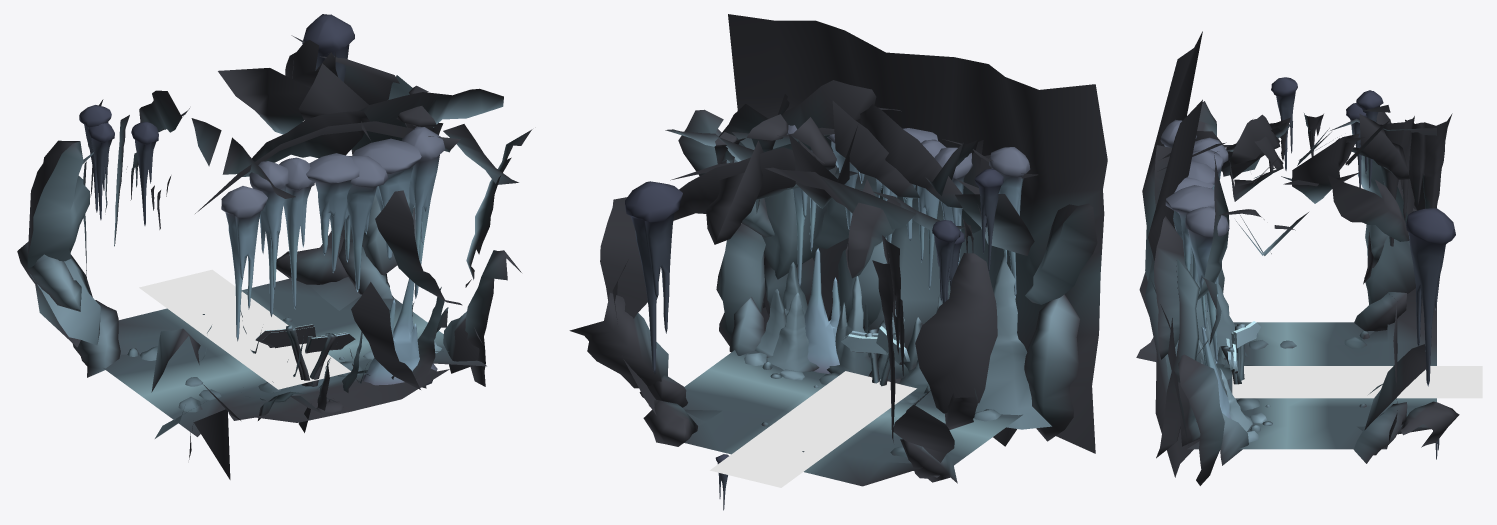
The model's file is Arctic_Tunnels_T_Junction_A.glb.
3 views of the same model, side by side, from view 1: azimuth 30°, elevation 25°; view 2: azimuth 150°, elevation 25°; view 3: azimuth 270°, elevation 25° (orthographic). The views are drawn at different scales.
Visible parts, largest first — view 1: Arctic_Tunnels_T_Junction_A, turnHighlight, Arctic_Tunnels_Icicle_Bright_A08, Arctic_Tunnels_Icicle_Bright_A05, Arctic_Tunnels_Icicle_Bright_A02 (1), Arctic_Tunnels_Icicle_Bright_A04, Arctic_Tunnels_Icicle_Bright_A07, Arctic_Tunnels_Icicle_Bright_A03, Arctic_Tunnels_Icicle_Bright_A08 (1), Arctic_Tunnels_Icicle_Bright_A06, Arctic_Tunnels_Icicle_Shadow_A02, Arctic_Tunnels_Icicle_Shadow_A06 (+2 smaller); view 2: Arctic_Tunnels_T_Junction_A, turnHighlight, Arctic_Tunnels_Icicle_Shadow_A02, Arctic_Tunnels_Icicle_Bright_A08 (1), Arctic_Tunnels_Icicle_Bright_A08, Arctic_Tunnels_Icicle_Shadow_A06, Arctic_Tunnels_Icicle_Shadow_A03, Arctic_Tunnels_Icicle_Bright_A06, Arctic_Tunnels_Icicle_Bright_A02 (1), Arctic_Tunnels_Icicle_Bright_A07, LeftArrow, RightArrow; view 3: Arctic_Tunnels_T_Junction_A, turnHighlight, Arctic_Tunnels_Icicle_Shadow_A02, Arctic_Tunnels_Icicle_Bright_A02 (1), Arctic_Tunnels_Icicle_Bright_A03, Arctic_Tunnels_Icicle_Shadow_A06, Arctic_Tunnels_Icicle_Shadow_A03, RightArrow, Arctic_Tunnels_Icicle_Bright_A08 (1), Arctic_Tunnels_Icicle_Shadow_A02 (1), Arctic_Tunnels_Icicle_Bright_A05, Arctic_Tunnels_Icicle_Bright_A06 (+2 smaller).
Part boxes in pixels (x1=…): Arctic_Tunnels_T_Junction_A: x1=17, y1=35, x2=532, y2=479; turnHighlight: x1=139, y1=269, x2=350, y2=389; Arctic_Tunnels_Icicle_Bright_A08: x1=221, y1=186, x2=267, y2=341; Arctic_Tunnels_Icicle_Bright_A05: x1=306, y1=153, x2=359, y2=272; Arctic_Tunnels_Icicle_Bright_A02 (1): x1=402, y1=126, x2=445, y2=298; Arctic_Tunnels_Icicle_Bright_A04: x1=344, y1=156, x2=388, y2=291; Arctic_Tunnels_Icicle_Bright_A07: x1=249, y1=161, x2=288, y2=316; Arctic_Tunnels_Icicle_Bright_A03: x1=352, y1=138, x2=421, y2=259; Arctic_Tunnels_Icicle_Bright_A08 (1): x1=362, y1=278, x2=437, y2=387; Arctic_Tunnels_Icicle_Bright_A06: x1=279, y1=157, x2=314, y2=309; Arctic_Tunnels_Icicle_Shadow_A02: x1=302, y1=14, x2=354, y2=81; Arctic_Tunnels_Icicle_Shadow_A06: x1=131, y1=122, x2=158, y2=225; Arctic_Tunnels_T_Junction_A: x1=569, y1=14, x2=1107, y2=486; turnHighlight: x1=710, y1=371, x2=916, y2=487; Arctic_Tunnels_Icicle_Shadow_A02: x1=625, y1=181, x2=682, y2=373; Arctic_Tunnels_Icicle_Bright_A08 (1): x1=804, y1=248, x2=840, y2=373; Arctic_Tunnels_Icicle_Bright_A08: x1=989, y1=147, x2=1030, y2=298; Arctic_Tunnels_Icicle_Shadow_A06: x1=974, y1=168, x2=1003, y2=271; Arctic_Tunnels_Icicle_Shadow_A03: x1=932, y1=220, x2=960, y2=303; Arctic_Tunnels_Icicle_Bright_A06: x1=917, y1=139, x2=946, y2=289; Arctic_Tunnels_Icicle_Bright_A02 (1): x1=786, y1=125, x2=816, y2=287; Arctic_Tunnels_Icicle_Bright_A07: x1=934, y1=147, x2=972, y2=263; LeftArrow: x1=841, y1=333, x2=887, y2=379; RightArrow: x1=876, y1=326, x2=910, y2=386; Arctic_Tunnels_T_Junction_A: x1=1136, y1=31, x2=1459, y2=485; turnHighlight: x1=1232, y1=366, x2=1482, y2=398; Arctic_Tunnels_Icicle_Shadow_A02: x1=1406, y1=208, x2=1455, y2=386; Arctic_Tunnels_Icicle_Bright_A02 (1): x1=1185, y1=206, x2=1229, y2=363; Arctic_Tunnels_Icicle_Bright_A03: x1=1165, y1=185, x2=1214, y2=283; Arctic_Tunnels_Icicle_Shadow_A06: x1=1271, y1=77, x2=1297, y2=170; Arctic_Tunnels_Icicle_Shadow_A03: x1=1356, y1=90, x2=1383, y2=188; RightArrow: x1=1233, y1=321, x2=1260, y2=380; Arctic_Tunnels_Icicle_Bright_A08 (1): x1=1196, y1=326, x2=1231, y2=420; Arctic_Tunnels_Icicle_Shadow_A02 (1): x1=1346, y1=103, x2=1367, y2=187; Arctic_Tunnels_Icicle_Bright_A05: x1=1188, y1=160, x2=1214, y2=264; Arctic_Tunnels_Icicle_Bright_A06: x1=1191, y1=149, x2=1223, y2=208.
Size of what is drawn, in the model's own units: 12.46 by 10.63 by 9.68.
